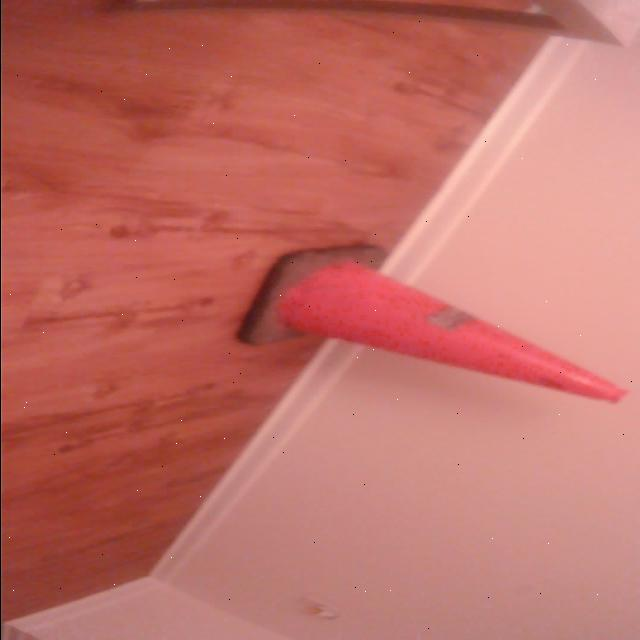traffic cone: (233, 242, 633, 407)
